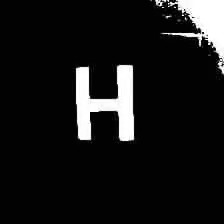LTR_H: (68, 53, 141, 149)
